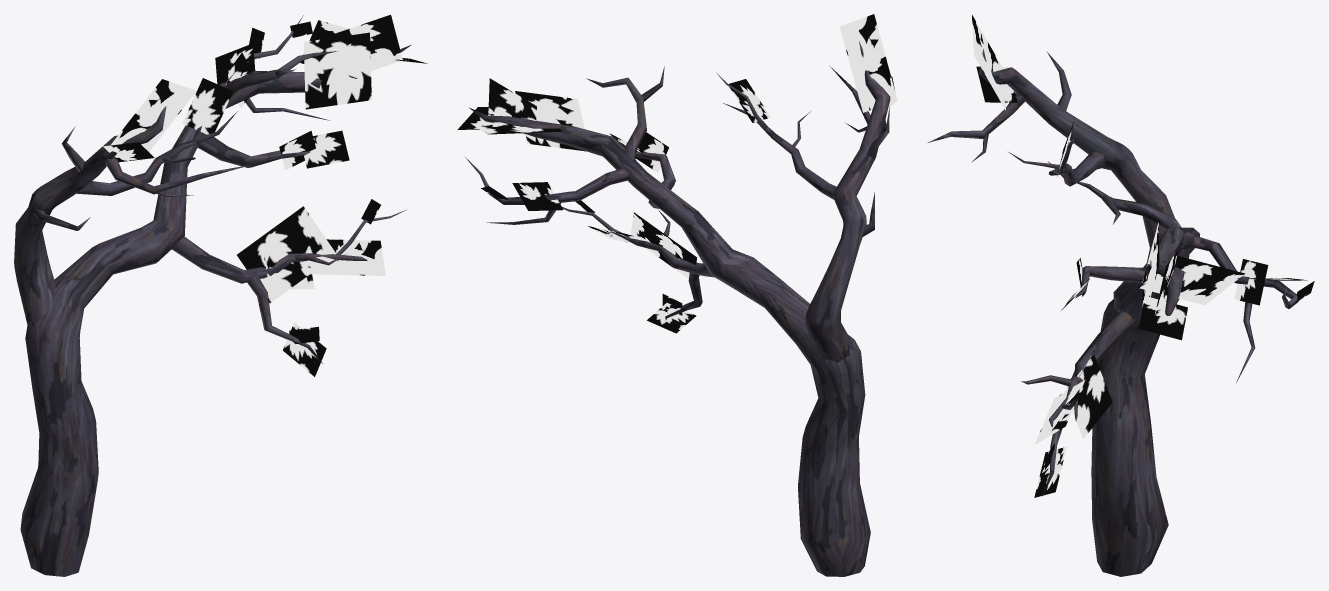
File: P_TreeWindsweptB02.obj
3 renders of one model, left to right at view 1: azimuth 30°, elevation 25°; view 2: azimuth 150°, elevation 25°; view 3: azimuth 270°, elevation 25°, orthographic. The views are drawn at different scales.
Size of the model in its own units: 9.24 by 11.44 by 7.07.
